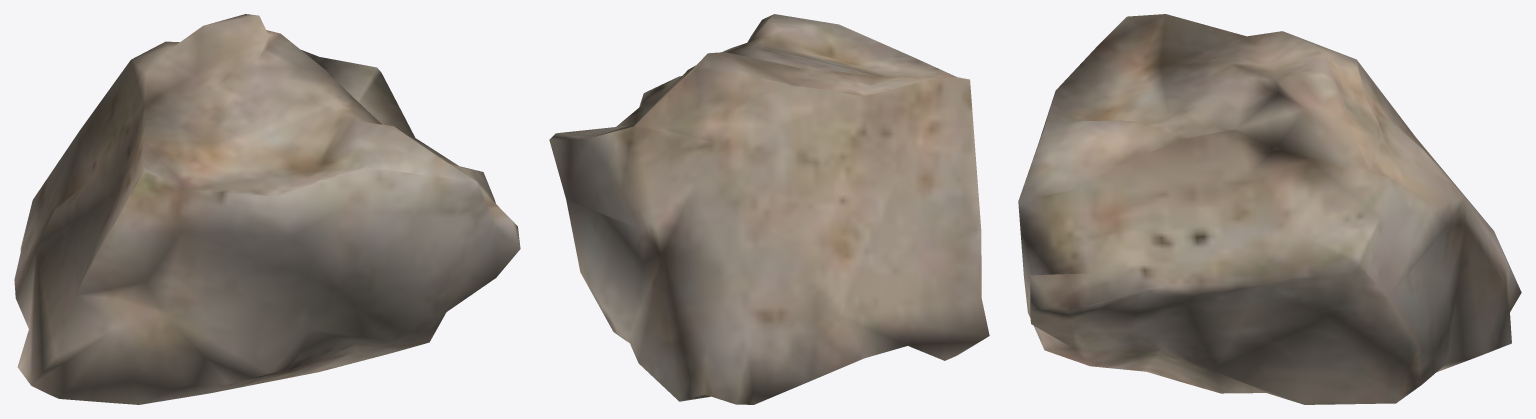
Rendered from stone_b.glb.
3 renders of one model, left to right at view 1: azimuth 30°, elevation 25°; view 2: azimuth 150°, elevation 25°; view 3: azimuth 270°, elevation 25°, orthographic. The views are drawn at different scales.
Parts seen in each view (by area): view 1: namaqualand_stones_01_e; view 2: namaqualand_stones_01_e; view 3: namaqualand_stones_01_e.
Boxes of the visible parts, left/top/right/bottom form: namaqualand_stones_01_e: left=14, top=14, right=520, bottom=404; namaqualand_stones_01_e: left=549, top=14, right=989, bottom=404; namaqualand_stones_01_e: left=1018, top=14, right=1521, bottom=404.
Bounding box in the file's own units: 0.1104 × 0.0759 × 0.1114.
Materials: 1 (1 with a texture image).
